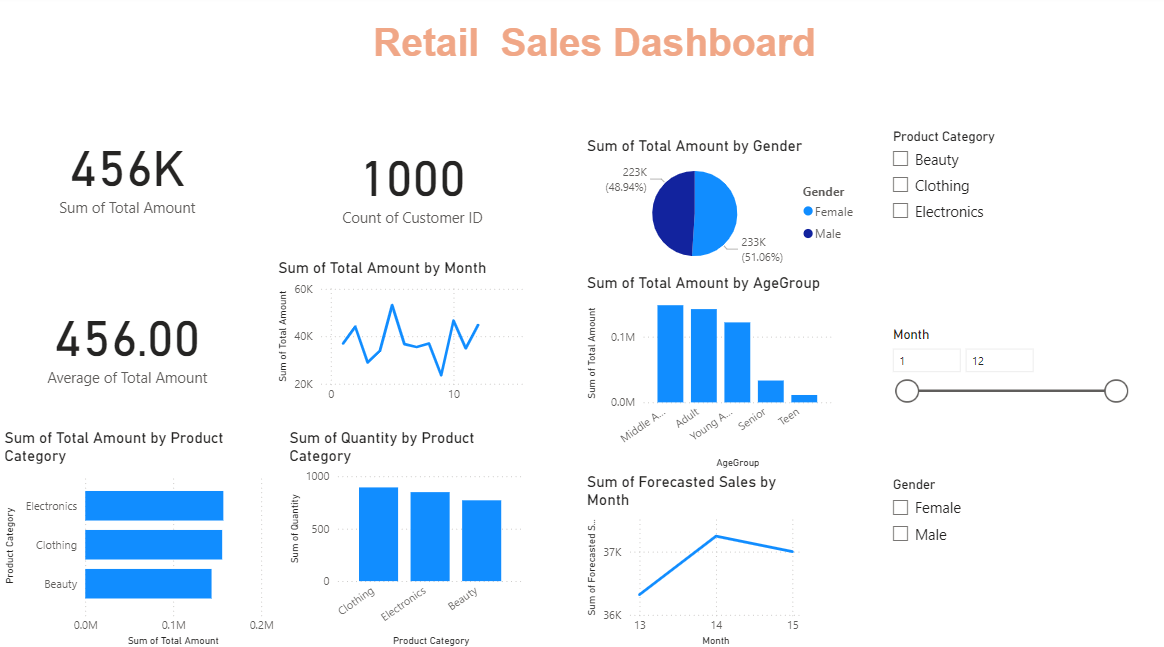

What the dashboard file says about the page in this screenshot:
{"tool":"powerbi","page":{"name":"Dashboard","canvas":[1280,720],"ordinal":5},"visuals":[{"type":"card","fields":{"Values":["Sum(cleaned_sales_data.Total Amount)"]},"box":[0,54.9,279.9,279.9],"z":0},{"type":"card","fields":{"Values":["Avg(cleaned_sales_data.Total Amount)"]},"box":[0,306,279.9,150.9],"z":1000},{"type":"card","fields":{"Values":["Count(cleaned_sales_data.Customer ID)"]},"box":[300.5,141.3,304.6,129],"z":2000},{"type":"lineChart","fields":{"Category":["monthly_sales.Month"],"Y":["Sum(monthly_sales.Total Amount)"]},"box":[300.5,289.5,279.9,167.4],"z":3000},{"type":"clusteredBarChart","fields":{"Category":["cleaned_sales_data.Product Category"],"Y":["Sum(cleaned_sales_data.Total Amount)"]},"box":[0,476.2,306,244.3],"z":4000},{"type":"columnChart","fields":{"Category":["cleaned_sales_data.Product Category"],"Y":["Sum(cleaned_sales_data.Quantity)"]},"box":[312.9,476.2,267.6,244.3],"z":5000},{"type":"pieChart","fields":{"Y":["Sum(cleaned_sales_data.Total Amount)"],"Category":["cleaned_sales_data.Gender"]},"box":[639.5,155.1,312.9,150.9],"z":6000},{"type":"clusteredColumnChart","fields":{"Category":["age_group_sales.AgeGroup"],"Y":["Sum(age_group_sales.Total Amount)"]},"box":[639.5,306,278.6,218.2],"z":7000},{"type":"lineChart","fields":{"Category":["forecast_output.Month"],"Y":["Sum(forecast_output.Forecasted Sales)"]},"box":[639.5,524.2,245.6,196.2],"z":8000},{"type":"slicer","fields":{"Values":["cleaned_sales_data.Product Category"]},"box":[967.4,141.3,278.6,218.2],"z":9000},{"type":"slicer","fields":{"Values":["cleaned_sales_data.Month"]},"box":[967,359,279,165],"z":10000},{"type":"slicer","fields":{"Values":["cleaned_sales_data.Gender"]},"box":[967,524,279,196],"z":11000},{"type":"textbox","box":[312.9,5.5,639.5,104.3],"z":12000}]}

Visuals, with their boxes in screenshot pixels (x1, y1, x2, y2), scaled from the page's 1280x720 canvas onto the 1164x647 screenshot:
card - Sum(cleaned_sales_data.Total Amount): <region>0, 49, 255, 301</region>
card - Avg(cleaned_sales_data.Total Amount): <region>0, 275, 255, 411</region>
card - Count(cleaned_sales_data.Customer ID): <region>273, 127, 550, 243</region>
lineChart - monthly_sales.Month x Sum(monthly_sales.Total Amount): <region>273, 260, 528, 411</region>
clusteredBarChart - cleaned_sales_data.Product Category x Sum(cleaned_sales_data.Total Amount): <region>0, 428, 278, 646</region>
columnChart - cleaned_sales_data.Product Category x Sum(cleaned_sales_data.Quantity): <region>285, 428, 528, 646</region>
pieChart - Sum(cleaned_sales_data.Total Amount) x cleaned_sales_data.Gender: <region>582, 139, 866, 275</region>
clusteredColumnChart - age_group_sales.AgeGroup x Sum(age_group_sales.Total Amount): <region>582, 275, 835, 471</region>
lineChart - forecast_output.Month x Sum(forecast_output.Forecasted Sales): <region>582, 471, 805, 646</region>
slicer - cleaned_sales_data.Product Category: <region>880, 127, 1133, 323</region>
slicer - cleaned_sales_data.Month: <region>879, 323, 1133, 471</region>
slicer - cleaned_sales_data.Gender: <region>879, 471, 1133, 646</region>
textbox: <region>285, 5, 866, 99</region>
